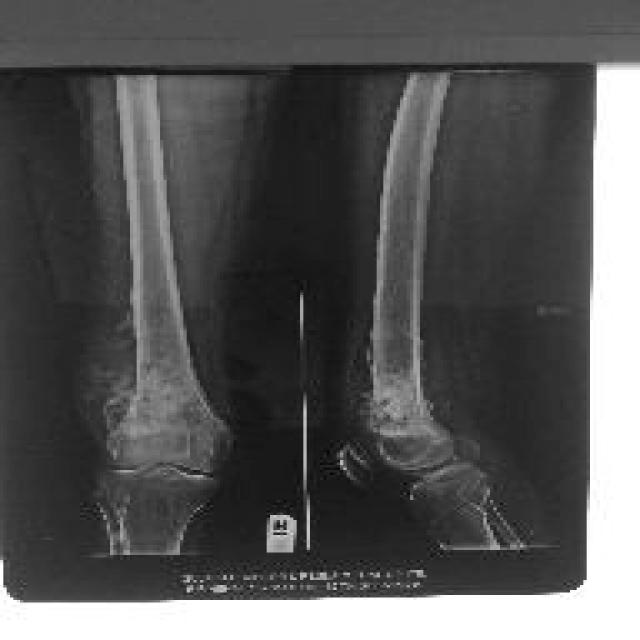bone-cancer: (86, 286, 213, 436), (347, 320, 452, 432)
